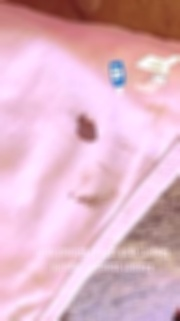blood: (73, 113, 101, 142)
